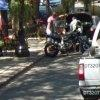Car: (84, 18, 100, 100)
